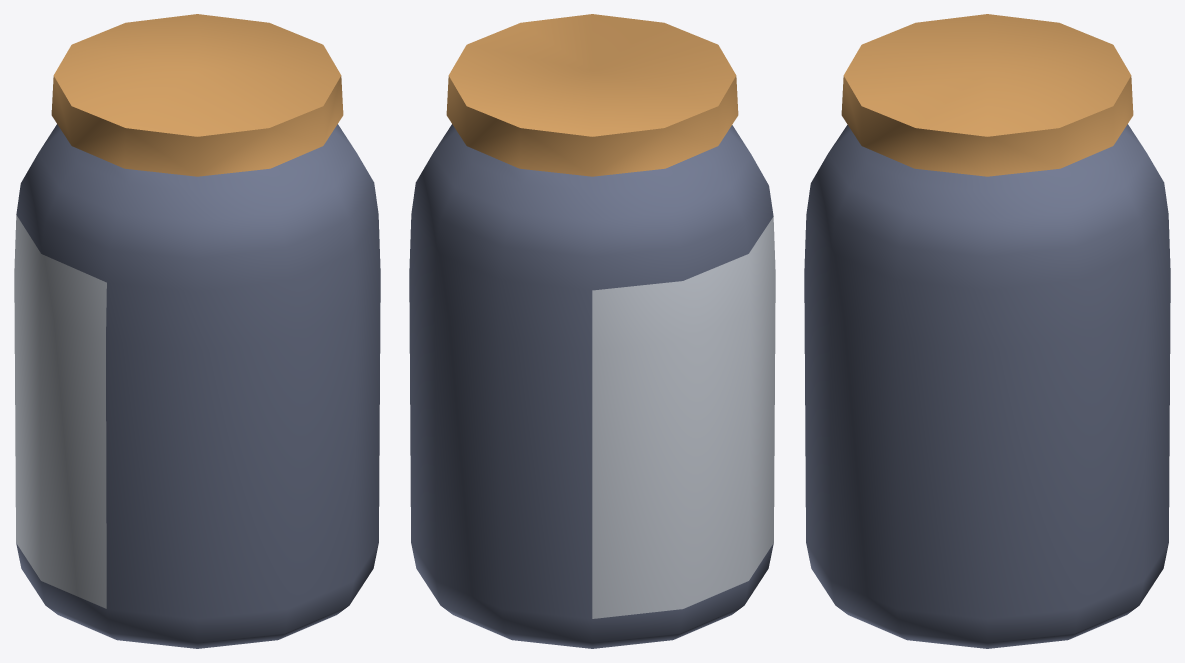
File: Jar.fbx
The picture shows the model from 3 angles, left to right: view 1: azimuth 30°, elevation 25°; view 2: azimuth 150°, elevation 25°; view 3: azimuth 270°, elevation 25°; orthographic projection.
Parts seen in each view (by area): view 1: Jar; view 2: Jar; view 3: Jar.
Boxes of the visible parts, x1=… form: Jar: x1=14, y1=14, x2=380, y2=648; Jar: x1=409, y1=14, x2=775, y2=648; Jar: x1=804, y1=14, x2=1170, y2=648.
Size of the model in its own units: 11.51 by 17.76 by 11.56.
